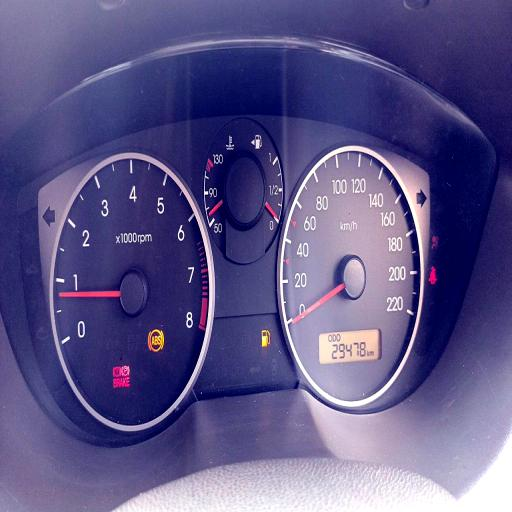belt: (429, 266, 436, 286)
brake_system_fault: (113, 366, 121, 378)
tachometer: (50, 150, 215, 431)
